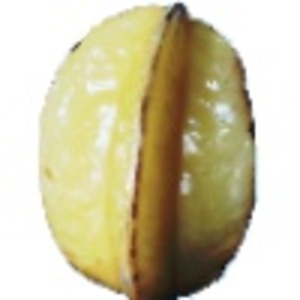carambola: (37, 1, 260, 300)
